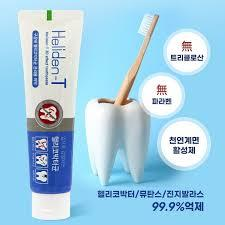toothpaste: (11, 6, 84, 224)
